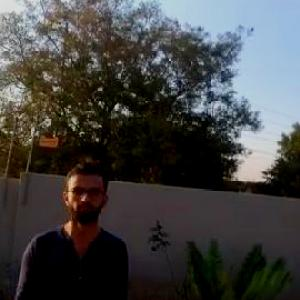follow: (10, 155, 133, 299)
